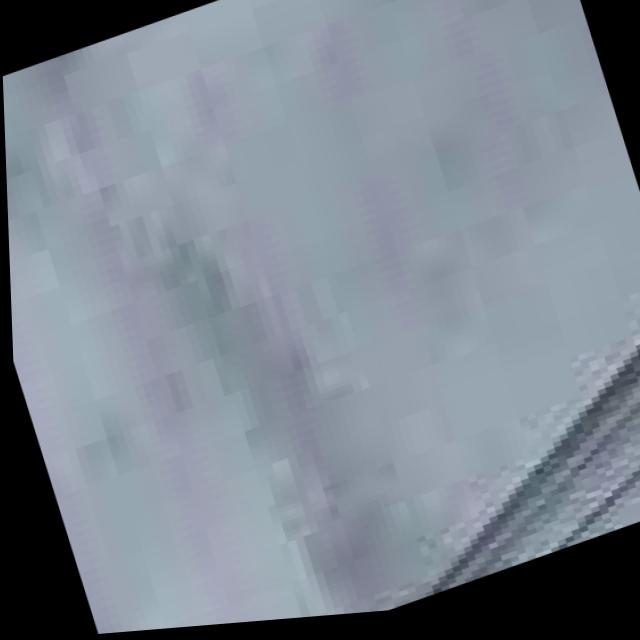metal-plates: (3, 1, 640, 636)
